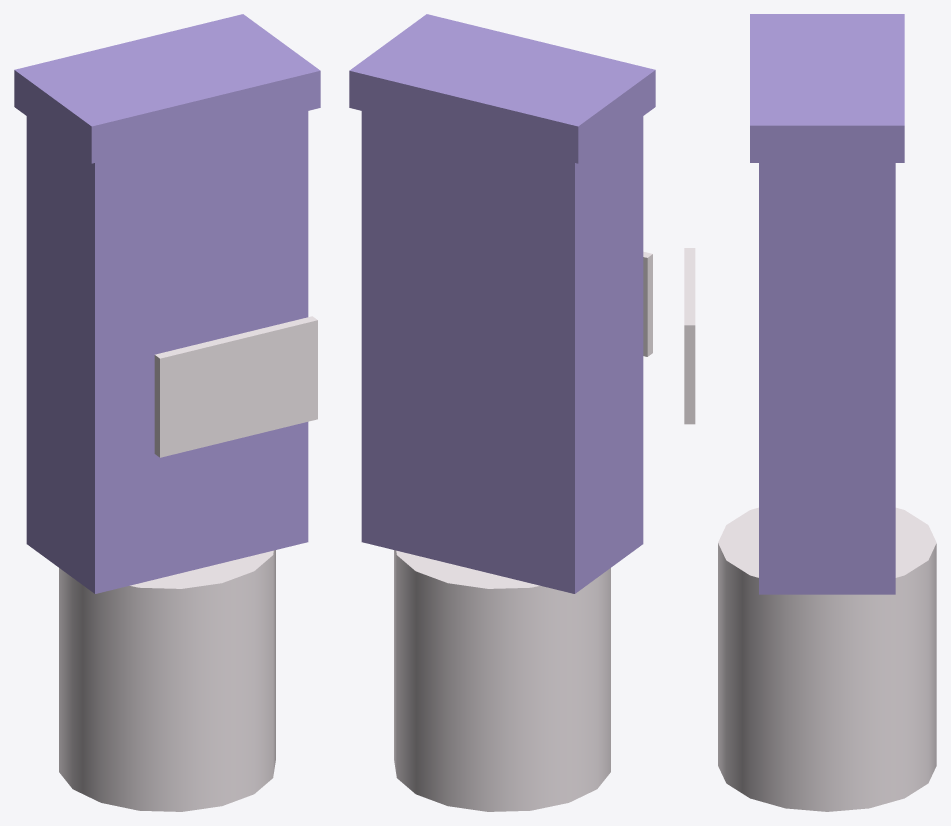
The model's file is TRD-01-02.glb.
3 views of the same model, side by side, from view 1: azimuth 30°, elevation 25°; view 2: azimuth 150°, elevation 25°; view 3: azimuth 270°, elevation 25° (orthographic).
Parts seen in each view (by area): view 1: TRD-01-02; view 2: TRD-01-02; view 3: TRD-01-02.
Boxes of the visible parts, box(x1,y1,x2,y2) form: TRD-01-02: box(14, 14, 320, 811); TRD-01-02: box(349, 14, 655, 811); TRD-01-02: box(684, 14, 936, 811).
Bounding box in the file's own units: 0.29 × 0.8425 × 0.277.
